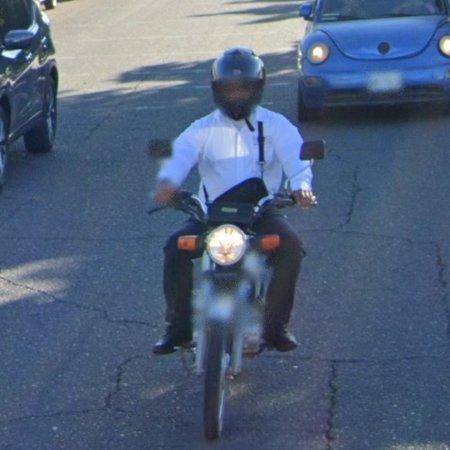motorcycles: (168, 180, 295, 441)
